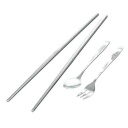fork: (79, 43, 123, 105)
